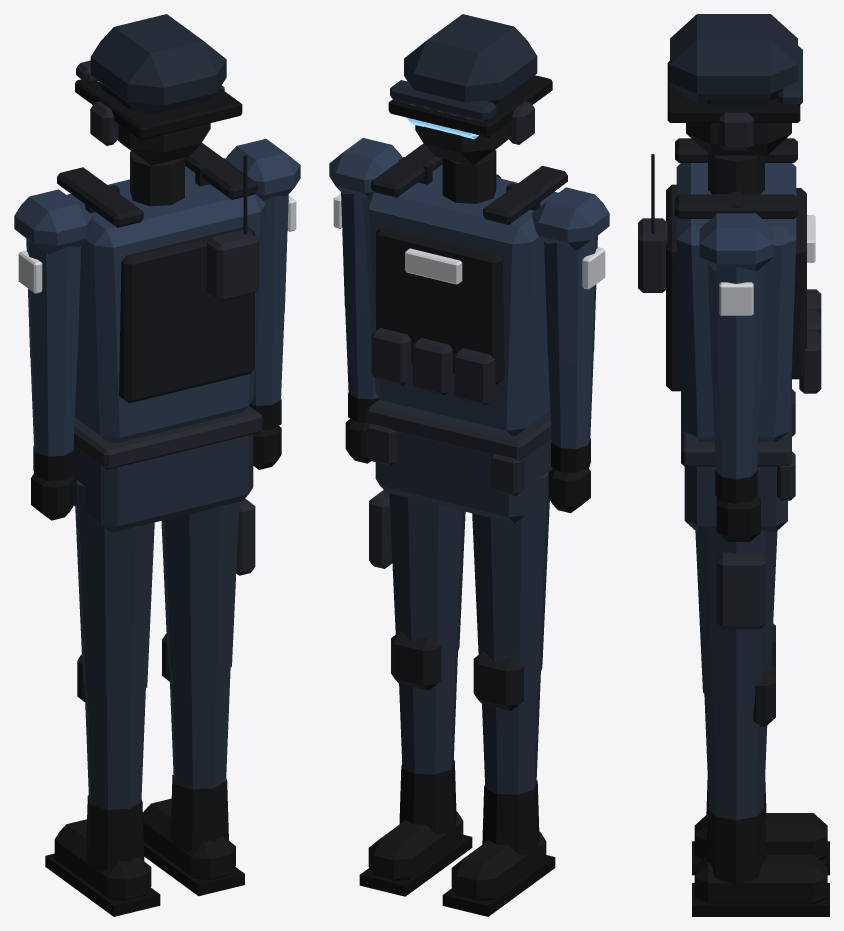
The model's file is fighter_ct.glb.
3 views of the same model, side by side, from view 1: azimuth 30°, elevation 25°; view 2: azimuth 150°, elevation 25°; view 3: azimuth 270°, elevation 25° (orthographic). The views are drawn at different scales.
Parts seen in each view (by area): view 1: Torso, Head, Hips, ShinL, ShinR, LegR, LegL, ArmL, ForeL, ArmR, ForeR; view 2: Torso, Head, ShinL, ShinR, Hips, LegR, LegL, ArmL, ForeL, ArmR, ForeR; view 3: Torso, ShinR, Head, LegR, ArmR, ForeR, Hips, ShinL.
Boxes of the visible parts, box(x1,y1,x2,y2) form: Torso: box(57, 143, 265, 443); Head: box(75, 14, 242, 165); Hips: box(71, 406, 262, 532); ShinL: box(45, 654, 160, 916); ShinR: box(143, 633, 244, 896); LegR: box(161, 498, 255, 676); LegL: box(75, 480, 154, 697); ArmL: box(14, 189, 93, 369); ForeL: box(30, 358, 76, 520); ArmR: box(226, 139, 300, 318); ForeR: box(249, 312, 284, 469); Torso: box(363, 143, 567, 436); Head: box(388, 14, 552, 165); ShinL: box(442, 651, 555, 916); ShinR: box(359, 631, 472, 896); Hips: box(366, 399, 553, 523); LegR: box(369, 490, 465, 662); LegL: box(472, 472, 549, 682); ArmL: box(532, 187, 609, 363); ForeL: box(548, 353, 593, 513); ArmR: box(329, 138, 402, 313); ForeR: box(345, 307, 379, 463); Torso: box(638, 138, 821, 442); ShinR: box(692, 663, 829, 916); Head: box(667, 14, 802, 155); LegR: box(695, 529, 777, 706); ArmR: box(699, 213, 773, 391); ForeR: box(712, 382, 760, 541); Hips: box(681, 379, 795, 532); ShinL: box(692, 623, 829, 875).
Size of the model in its own units: 0.63 by 1.92 by 0.39.
